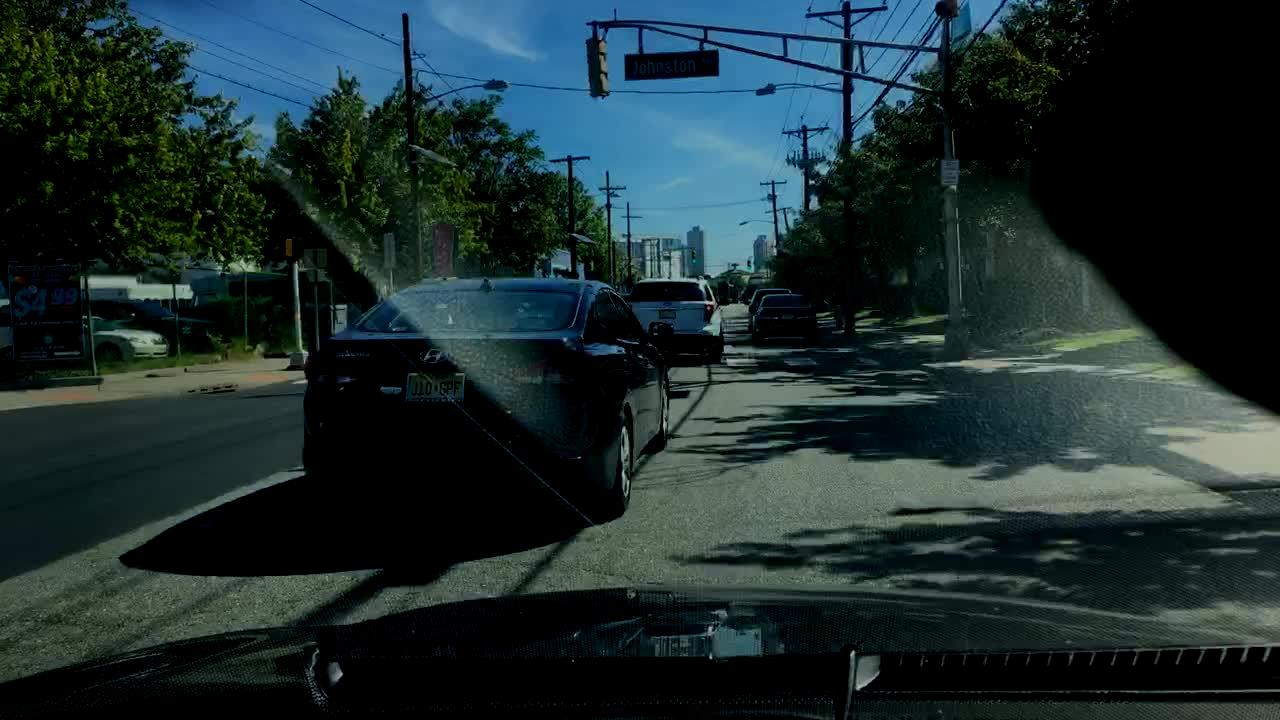Hyundai: (416, 341, 455, 369)
